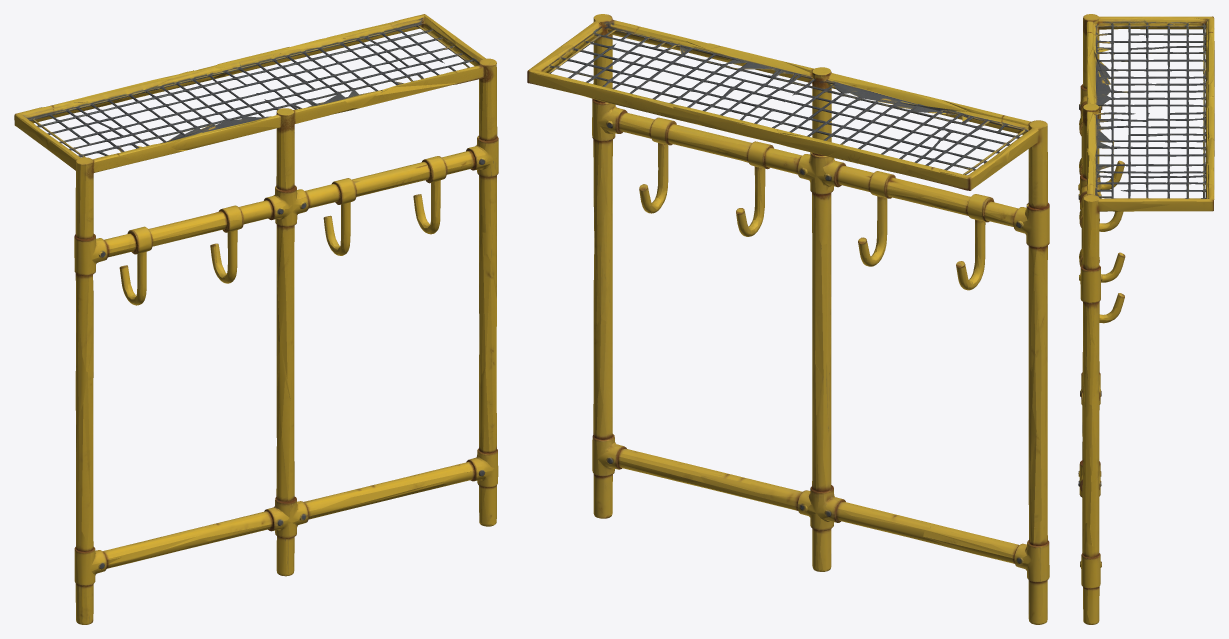
File: rastrelliera.glb
The picture shows the model from 3 angles, left to right: view 1: azimuth 30°, elevation 25°; view 2: azimuth 150°, elevation 25°; view 3: azimuth 270°, elevation 25°; orthographic projection. The views are drawn at different scales.
Visible parts, largest first — view 1: Mesh_0; view 2: Mesh_0; view 3: Mesh_0.
Part boxes in pixels (x1,y1,x2,y2): Mesh_0: (14,14,498,624); Mesh_0: (527,14,1049,624); Mesh_0: (1078,14,1214,624).
Bounding box in the file's own units: 1.82 × 1.9 × 0.5535.
Materials: 1 (1 with a texture image).
